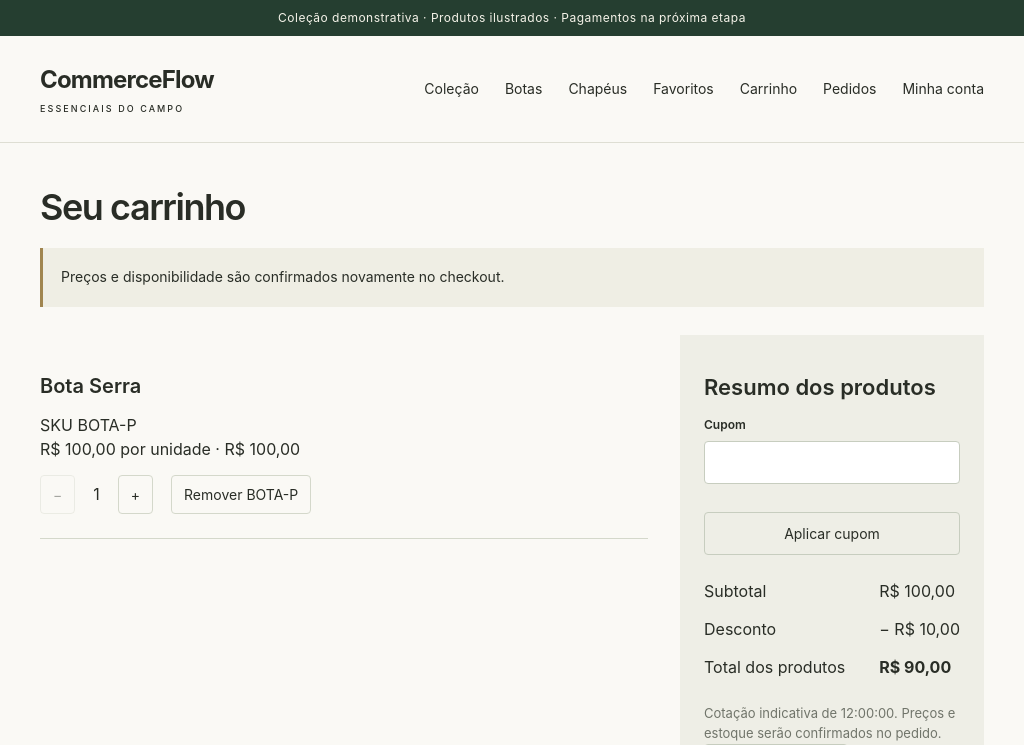
it: Cart and checkout › uses server totals and saves quantity with version and idempotency key
Expected: the text "R$ 90,00" is shown, [879,657,951,677]
Click the button named "Aumentar BOTA-P".
click(135, 494)  # box [118,475,153,514]
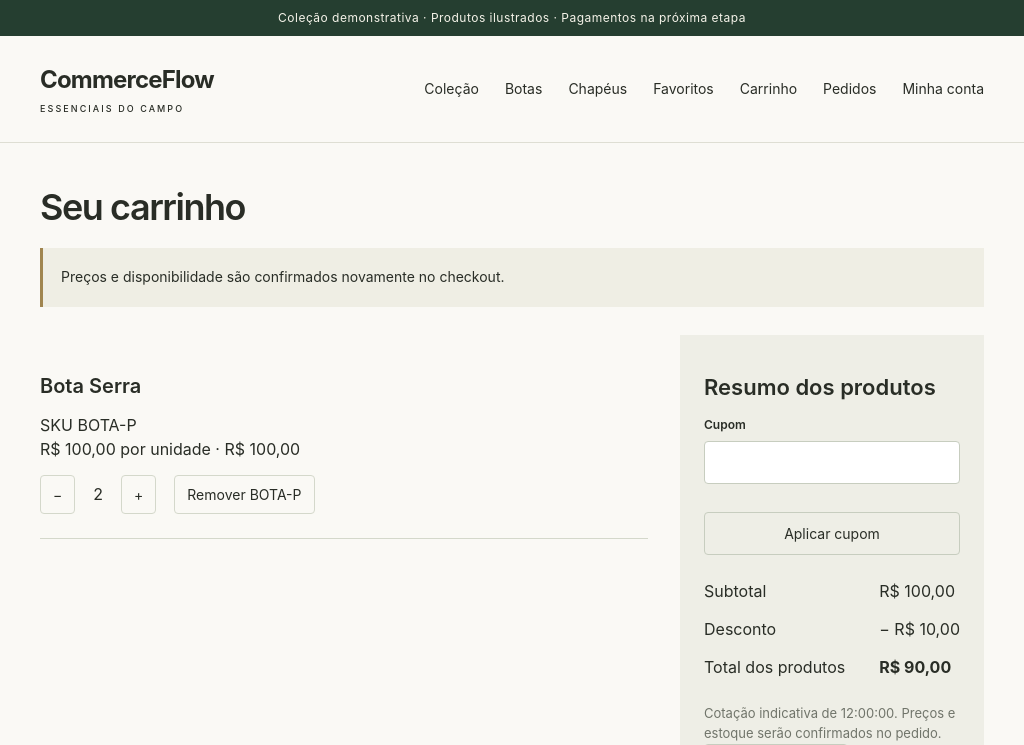
Expected: the text named "Quantidade de BOTA-P" reads "2", [93,484,103,504]
